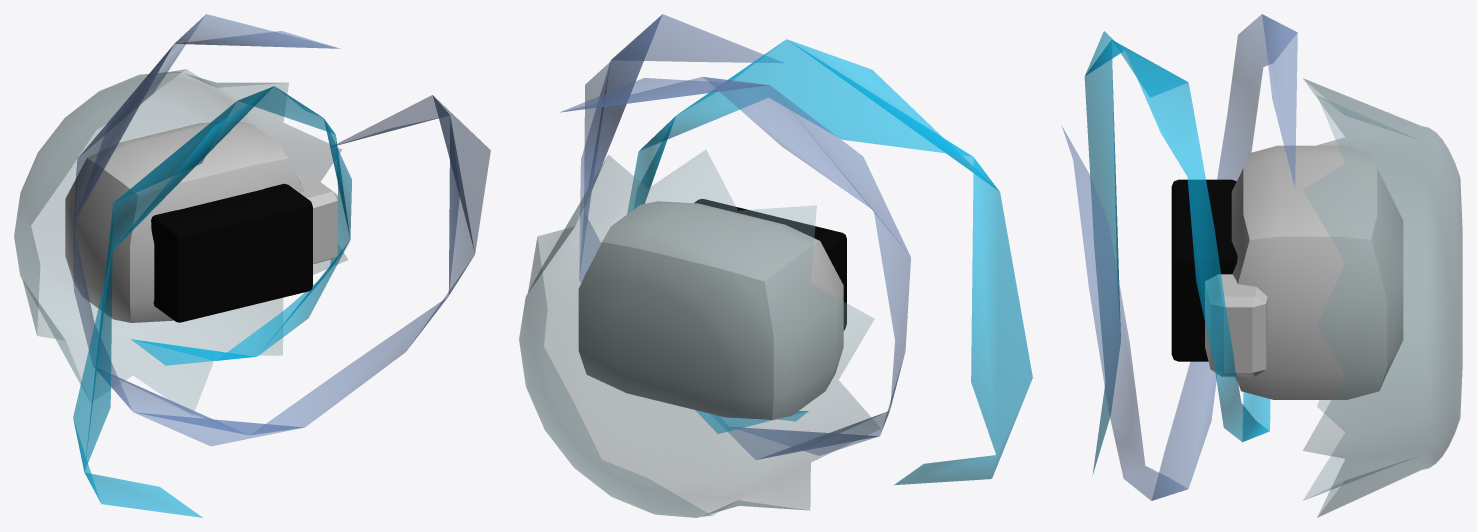
The model's file is Wind Blast Powerup.fbx.
3 views of the same model, side by side, from view 1: azimuth 30°, elevation 25°; view 2: azimuth 150°, elevation 25°; view 3: azimuth 270°, elevation 25° (orthographic). The views are drawn at different scales.
Visible parts, largest first — view 1: pasted__sweep1, pasted__pasted__pCylinder5, pCube1, pCube2, pCube3; view 2: pasted__pasted__pCylinder5, pasted__sweep1, pCube1, pCube2; view 3: pasted__pasted__pCylinder5, pasted__sweep1, pCube1, pCube2, pCube3.
Boxes of the visible parts, x1=… form: pasted__sweep1: x1=73, y1=14, x2=490, y2=517; pasted__pasted__pCylinder5: x1=14, y1=69, x2=347, y2=415; pCube1: x1=65, y1=121, x2=304, y2=322; pCube2: x1=151, y1=183, x2=312, y2=322; pCube3: x1=300, y1=181, x2=337, y2=264; pasted__pasted__pCylinder5: x1=519, y1=150, x2=880, y2=517; pasted__sweep1: x1=560, y1=14, x2=1032, y2=484; pCube1: x1=578, y1=201, x2=843, y2=419; pCube2: x1=694, y1=199, x2=846, y2=330; pasted__pasted__pCylinder5: x1=1303, y1=78, x2=1462, y2=517; pasted__sweep1: x1=1062, y1=14, x2=1297, y2=500; pCube1: x1=1231, y1=145, x2=1403, y2=399; pCube2: x1=1171, y1=179, x2=1237, y2=361; pCube3: x1=1205, y1=274, x2=1267, y2=376.
Bounding box in the file's own units: 6.43 × 6.19 × 4.54.
